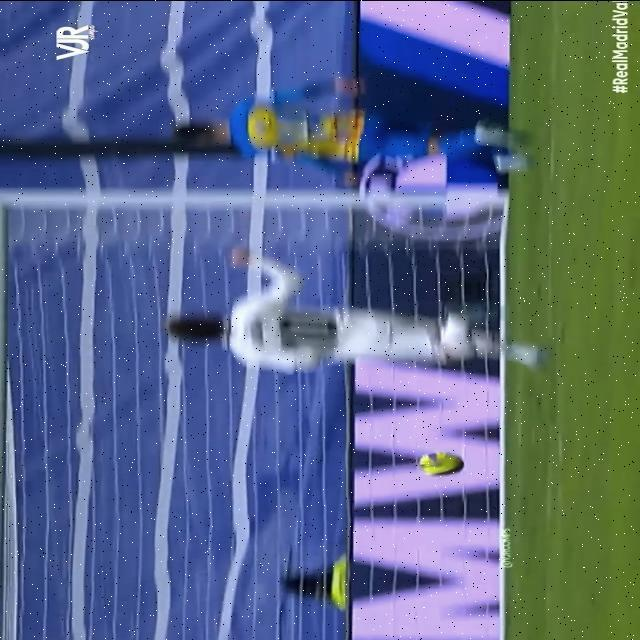ball: (405, 438, 483, 476)
player: (143, 252, 553, 386), (165, 90, 563, 187)
